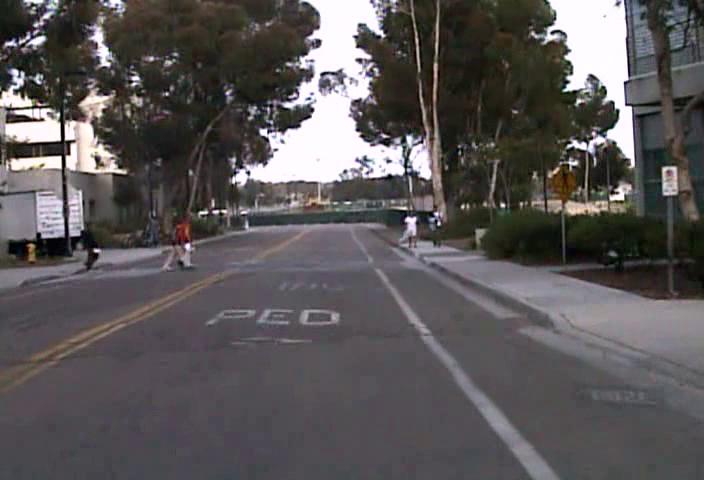pedestrianCrossing: (548, 164, 577, 201)
